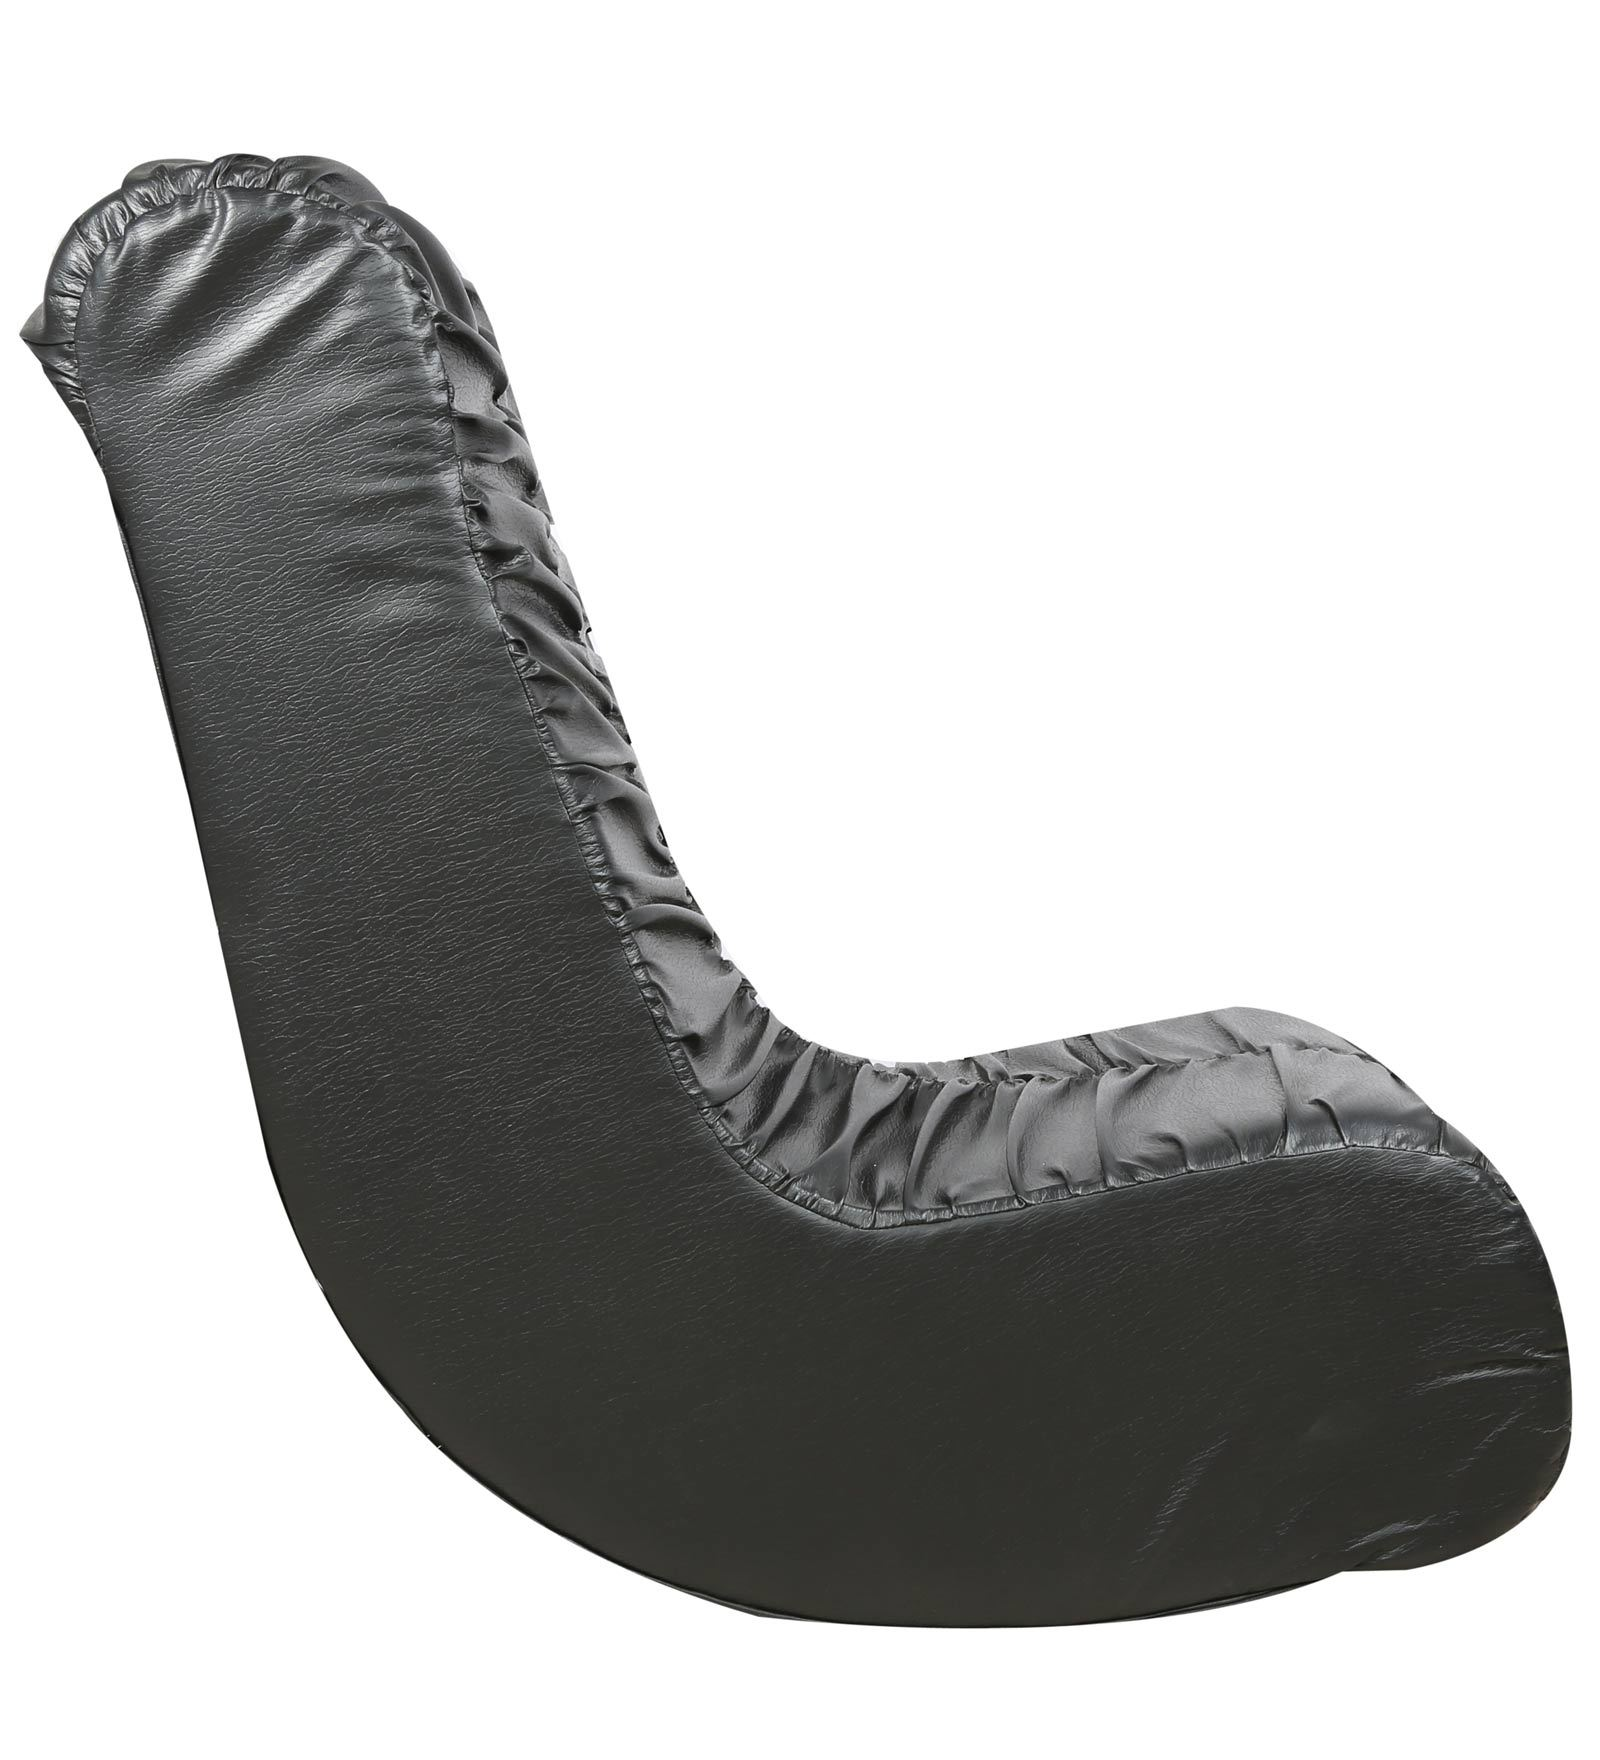Daisy Rocking Chair in Black Colour by Parin: (18, 101, 1560, 1650)
